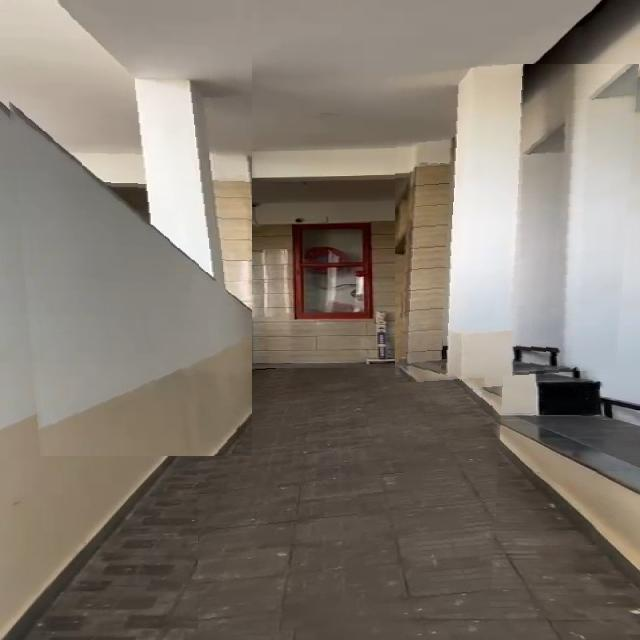floor: (198, 368, 505, 640)
wall: (0, 0, 252, 456), (395, 64, 640, 385)
